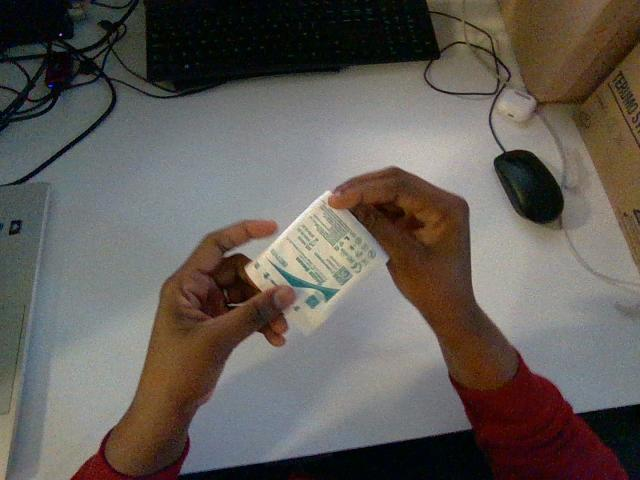gauze: (245, 191, 388, 333)
